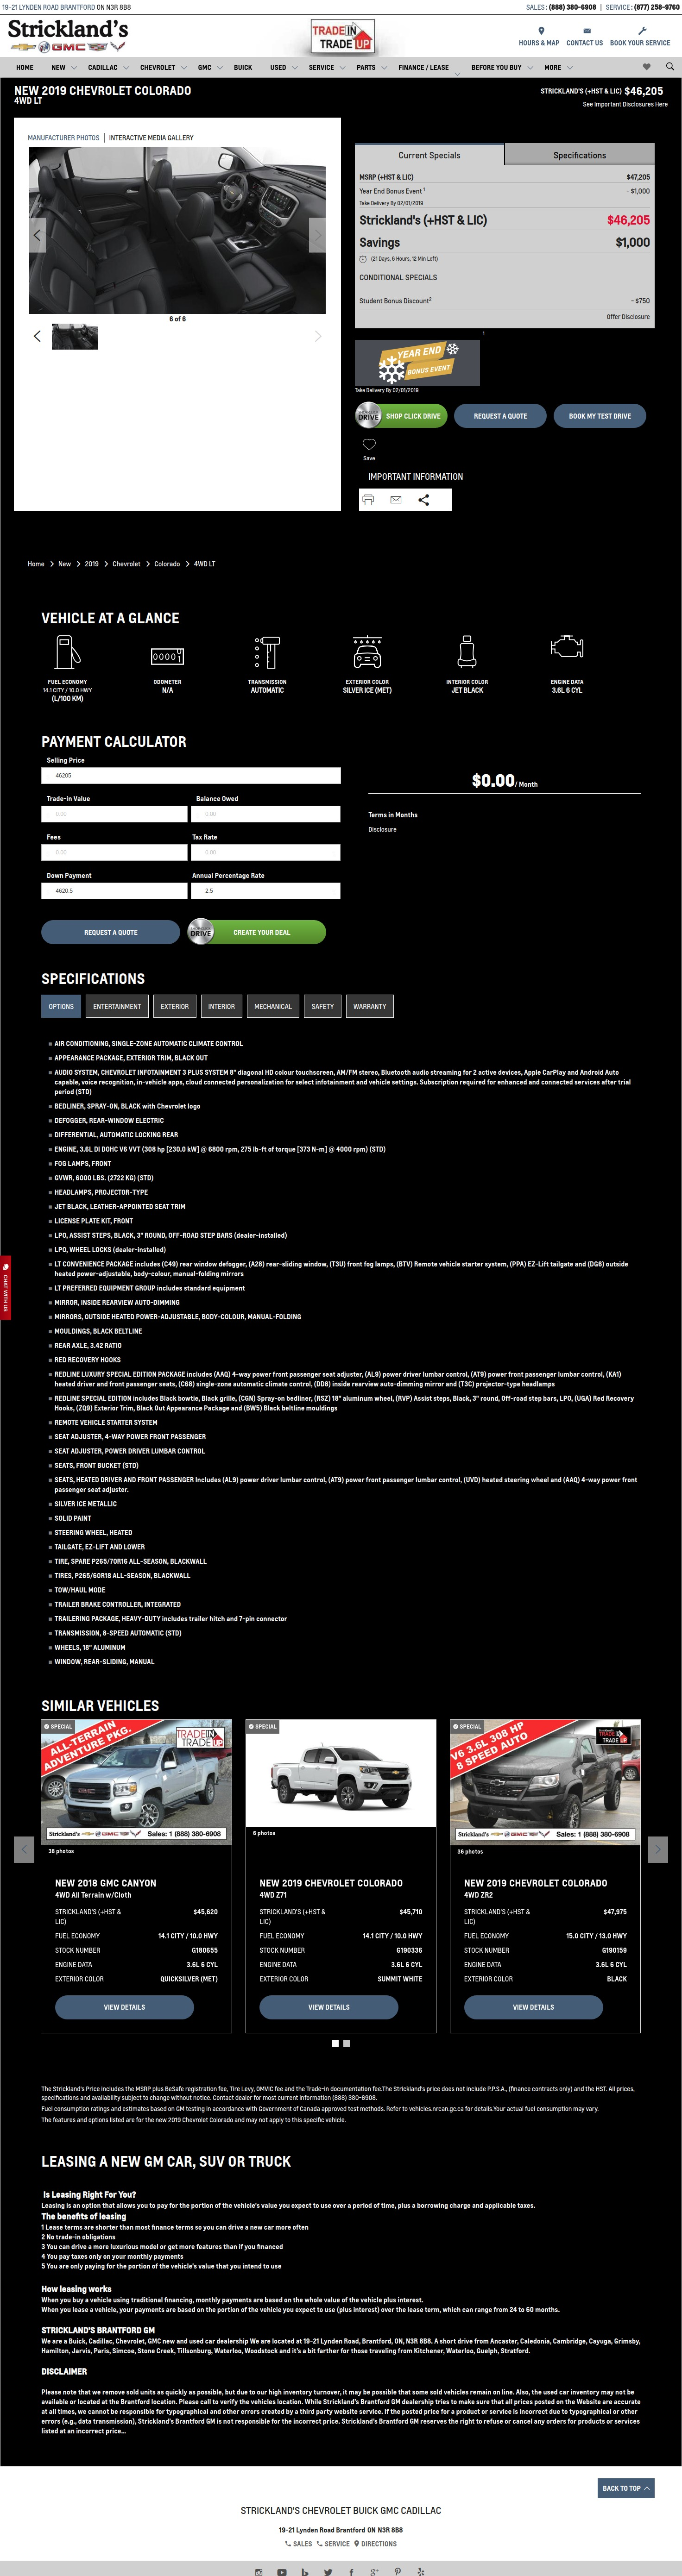car: (314, 330, 322, 342)
